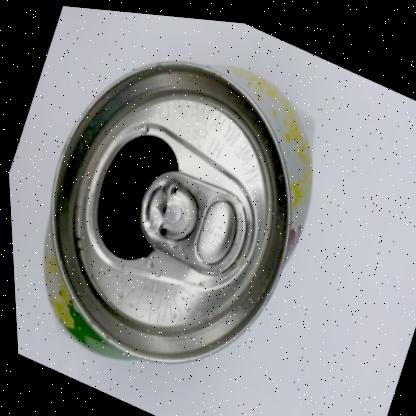Metal: (39, 59, 311, 358)
